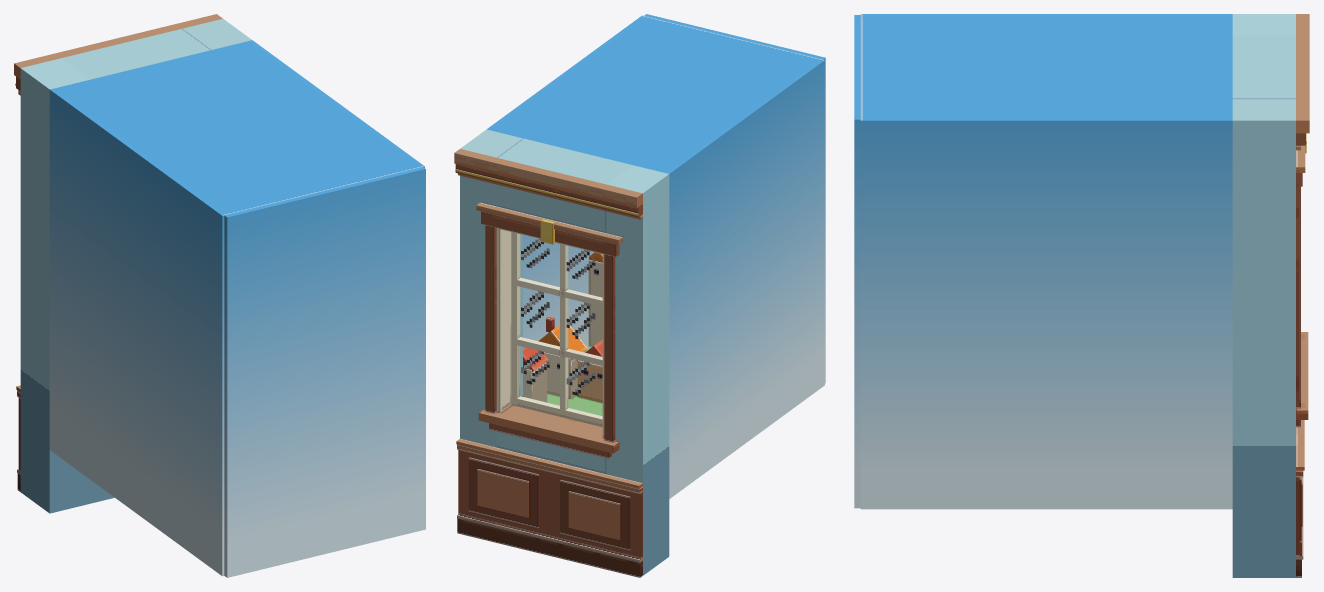
File: wall_window.gltf
3 renders of one model, left to right at view 1: azimuth 30°, elevation 25°; view 2: azimuth 150°, elevation 25°; view 3: azimuth 270°, elevation 25°, orthographic. The views are drawn at different scales.
Visible parts, largest first — view 1: sky_back, sky_side_left, sky_top, plaster_pier_left, plaster_over, wood_crown_top, plaster_pier_right, sky_side_right; view 2: sky_side_left, sky_top, plaster_pier_left, plaster_pier_right, plaster_over, sky_side_right, wood_board, wood_crown_top, cream_lining_right, wood_stool_light, wood_skirting, glass_pane (+26 smaller); view 3: sky_side_right, sky_top, plaster_pier_right, plaster_over, sky_back, wood_crown_top, plaster_pier_left, sky_side_left, wood_casing_right, wood_stool_light.
Part boxes in pixels (x1=…): sky_back: x1=224, y1=167, x2=425, y2=577; sky_side_left: x1=49, y1=88, x2=226, y2=576; sky_top: x1=55, y1=41, x2=419, y2=214; plaster_pier_left: x1=20, y1=58, x2=90, y2=513; plaster_over: x1=61, y1=28, x2=211, y2=79; wood_crown_top: x1=14, y1=14, x2=222, y2=79; plaster_pier_right: x1=183, y1=19, x2=251, y2=49; sky_side_right: x1=248, y1=40, x2=424, y2=167; sky_side_left: x1=665, y1=59, x2=824, y2=498; sky_top: x1=491, y1=16, x2=819, y2=172; plaster_pier_left: x1=606, y1=165, x2=669, y2=575; plaster_pier_right: x1=460, y1=129, x2=522, y2=447; plaster_over: x1=496, y1=138, x2=632, y2=232; sky_side_right: x1=486, y1=15, x2=646, y2=346; wood_board: x1=458, y1=450, x2=642, y2=558; wood_crown_top: x1=454, y1=149, x2=642, y2=207; cream_lining_right: x1=496, y1=227, x2=511, y2=412; wood_stool_light: x1=478, y1=405, x2=618, y2=453; wood_skirting: x1=457, y1=518, x2=642, y2=577; glass_pane: x1=521, y1=238, x2=595, y2=395; sky_side_right: x1=860, y1=118, x2=1232, y2=509; sky_top: x1=860, y1=16, x2=1232, y2=117; plaster_pier_right: x1=1232, y1=99, x2=1295, y2=577; plaster_over: x1=1232, y1=35, x2=1295, y2=99; sky_back: x1=854, y1=15, x2=860, y2=508; wood_crown_top: x1=1296, y1=14, x2=1309, y2=133; plaster_pier_left: x1=1232, y1=14, x2=1295, y2=35; sky_side_left: x1=860, y1=14, x2=1232, y2=16; wood_casing_right: x1=1296, y1=186, x2=1300, y2=408; wood_stool_light: x1=1296, y1=332, x2=1308, y2=419.
Bounding box in the file's own units: 2 × 4 × 3.61.
5 materials, 5 textured.
